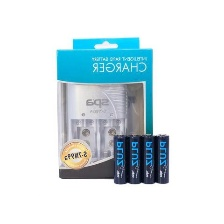battery: (139, 131, 159, 186), (125, 132, 144, 185), (112, 132, 129, 186), (153, 131, 170, 185)
